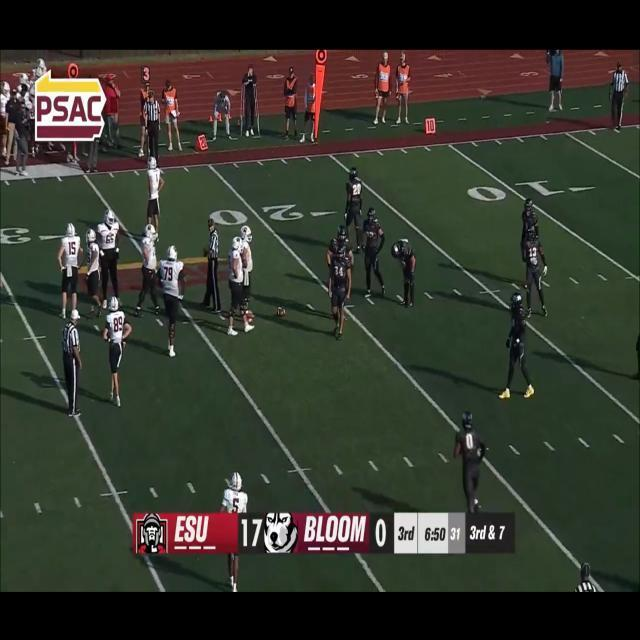football: (275, 306, 288, 318)
